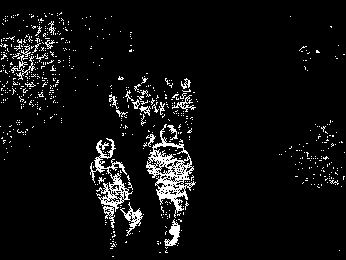person: (145, 124, 196, 246), (90, 138, 142, 251), (133, 71, 161, 131), (109, 73, 133, 135), (178, 78, 198, 132), (159, 74, 178, 125)
